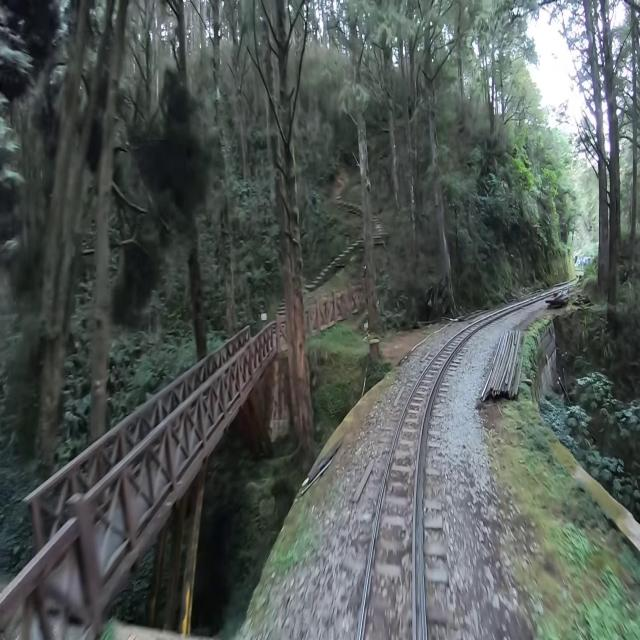rail-track: (360, 328, 470, 639)
